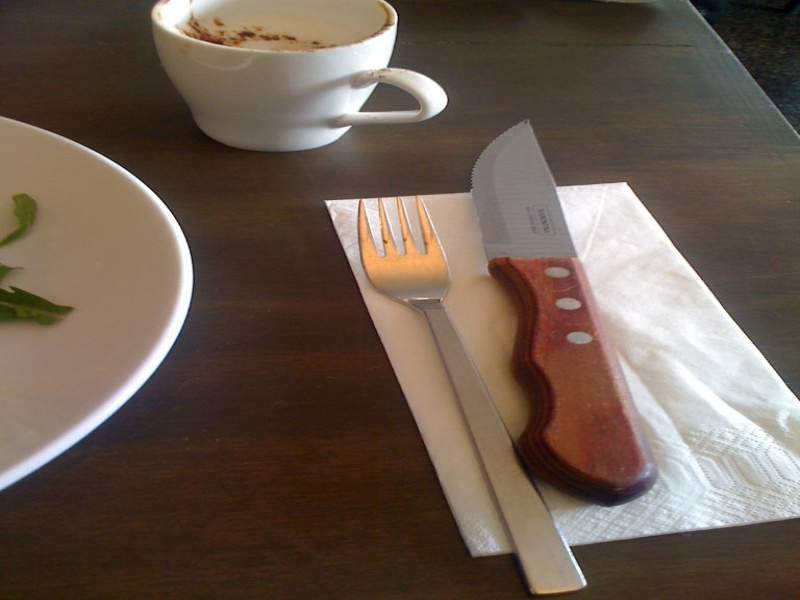knife: (469, 115, 660, 504)
